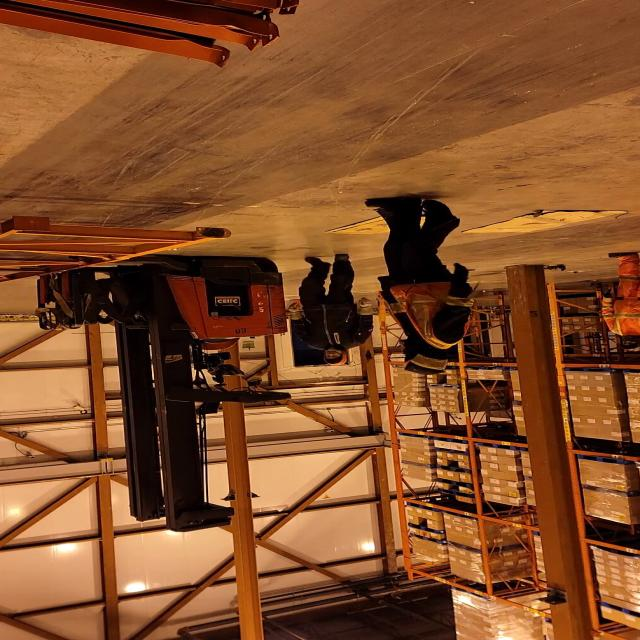forklift: (29, 253, 290, 524)
human: (363, 192, 477, 375), (288, 248, 375, 368), (593, 248, 640, 351)
objectofinterest: (0, 209, 232, 292), (460, 205, 631, 238), (323, 211, 459, 239)
